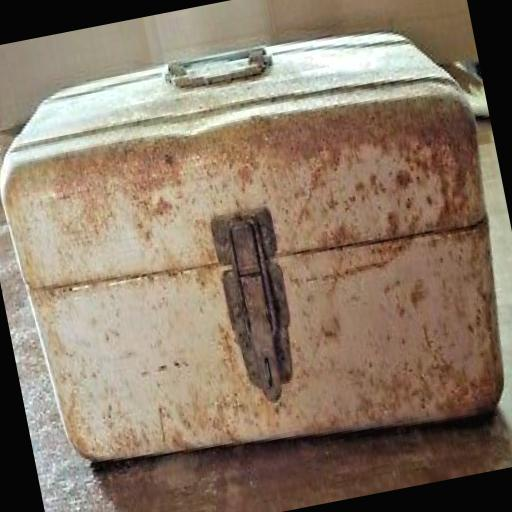segmentation: (304, 109, 486, 236), (59, 113, 300, 198), (211, 207, 291, 397), (446, 297, 503, 414)
